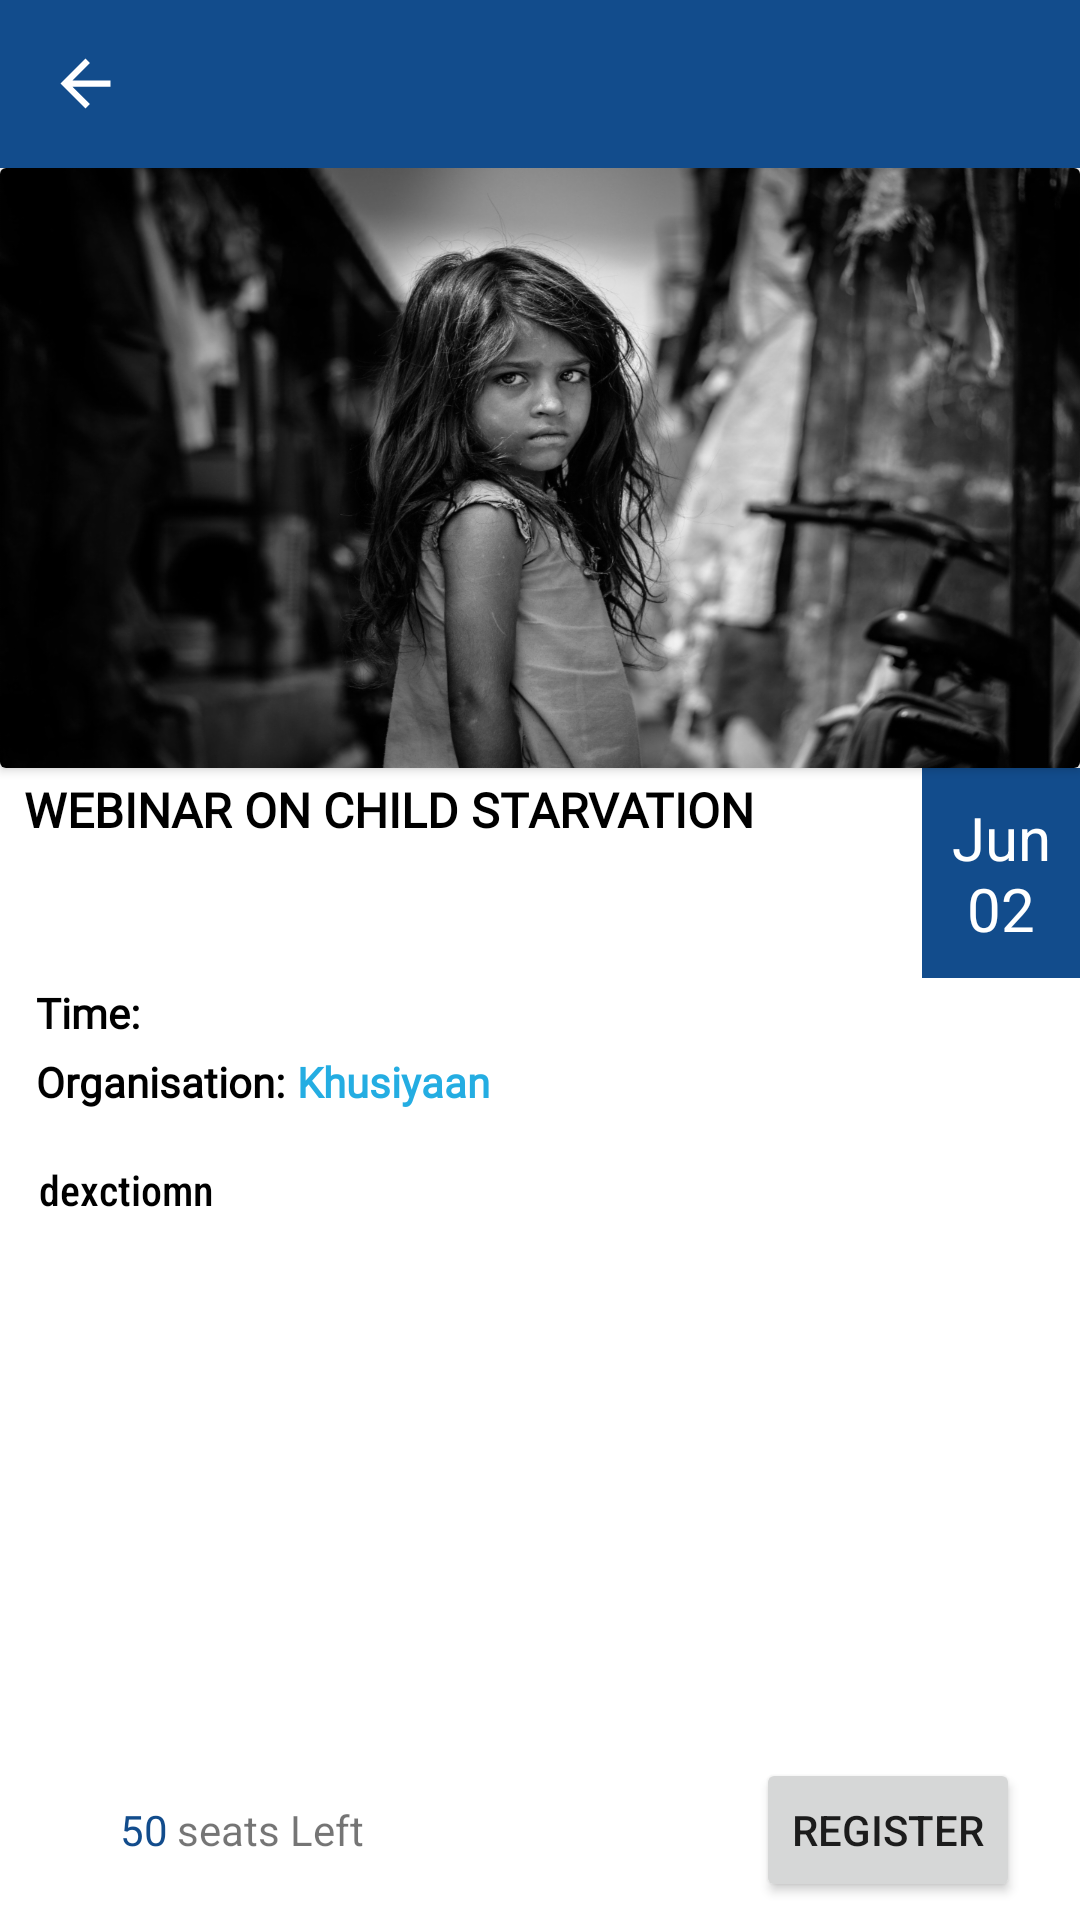

Where icons sit on this 1080px x 1920px app screen, as (x1, y1, x2, y2):
arrow: (60, 58, 111, 109)
